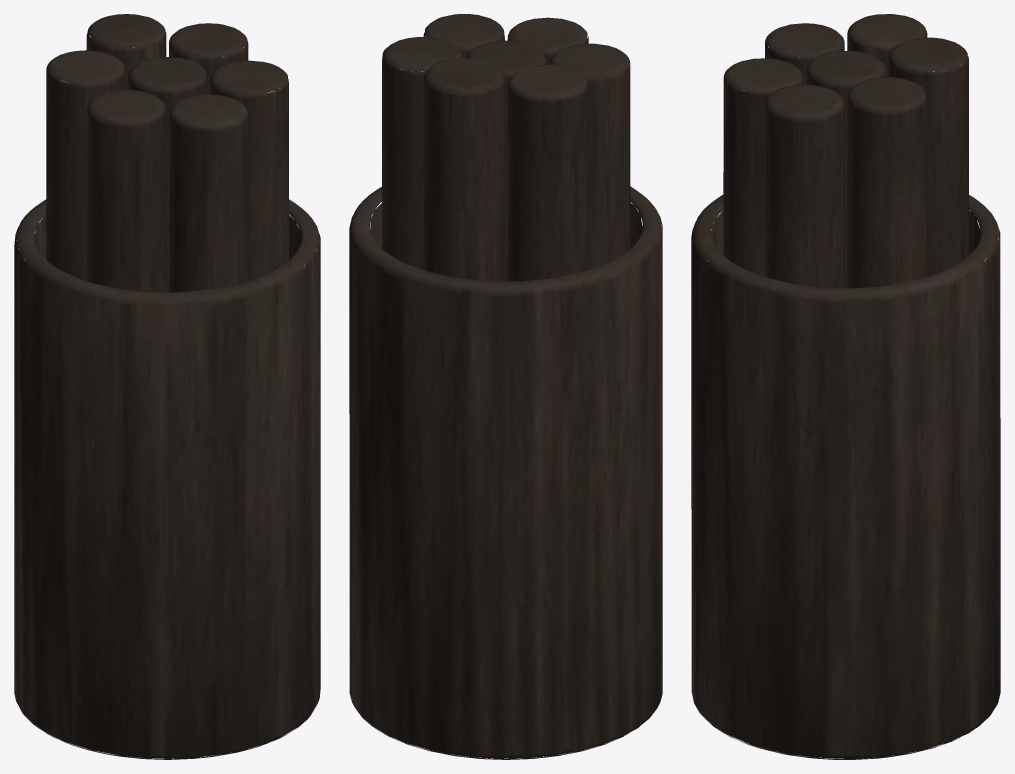
Rendered from cylindra_kral_cerny.glb.
3 views of the same model, side by side, from view 1: azimuth 30°, elevation 25°; view 2: azimuth 150°, elevation 25°; view 3: azimuth 270°, elevation 25° (orthographic). The views are drawn at different scales.
Visible parts, largest first — view 1: Cylindra_Král_černý; view 2: Cylindra_Král_černý; view 3: Cylindra_Král_černý.
Boxes of the visible parts, <box> form: Cylindra_Král_černý: <box>14,14,320,759</box>; Cylindra_Král_černý: <box>349,14,662,759</box>; Cylindra_Král_černý: <box>691,14,1000,759</box>.
Bounding box in the file's own units: 0.03 × 0.069 × 0.03.
Materials: 2 (2 with a texture image).
